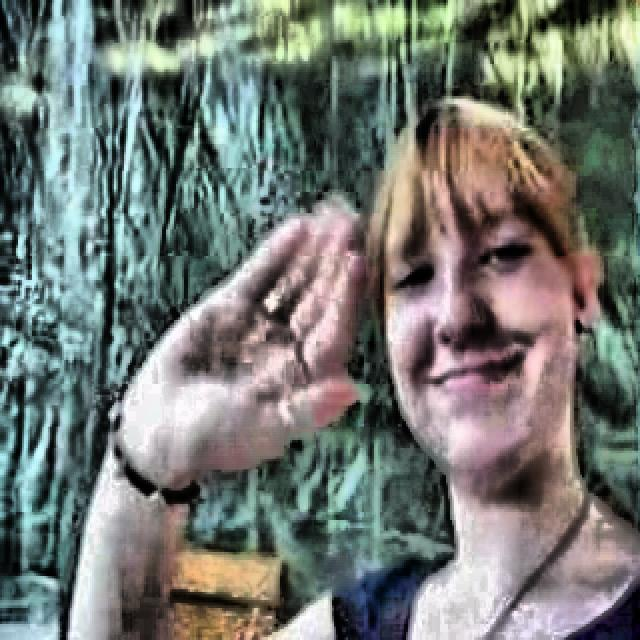T: (62, 103, 640, 635)
